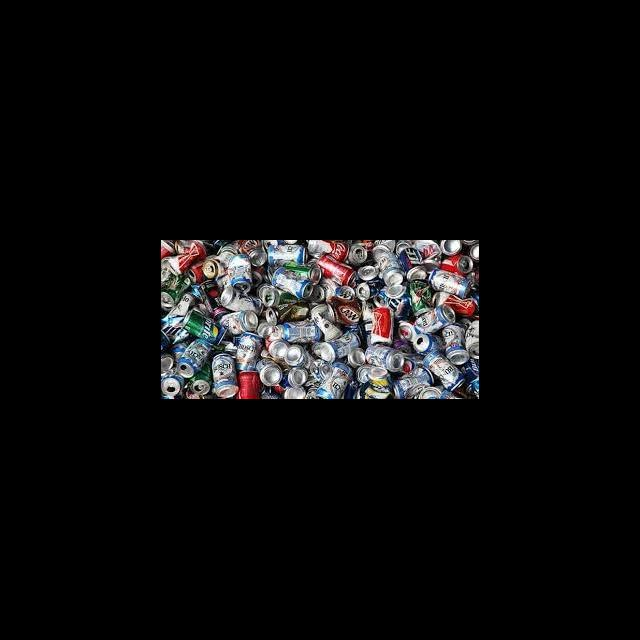metal: (419, 348, 467, 394), (161, 290, 197, 346), (312, 358, 357, 398), (179, 307, 227, 343), (314, 328, 363, 363), (425, 264, 472, 300), (409, 300, 455, 336), (268, 264, 314, 300), (224, 250, 261, 294), (174, 334, 211, 378), (312, 252, 357, 288), (193, 276, 228, 321), (391, 363, 434, 398), (209, 351, 241, 398), (395, 242, 429, 286), (164, 240, 207, 274), (230, 328, 263, 372), (361, 340, 407, 370), (262, 298, 311, 326), (307, 304, 342, 342), (364, 304, 395, 346), (217, 308, 263, 336), (441, 322, 470, 366), (263, 242, 311, 266), (276, 322, 322, 346), (252, 356, 285, 388), (406, 276, 432, 316), (363, 364, 393, 398), (234, 364, 264, 398), (161, 272, 190, 306), (439, 252, 475, 276)
